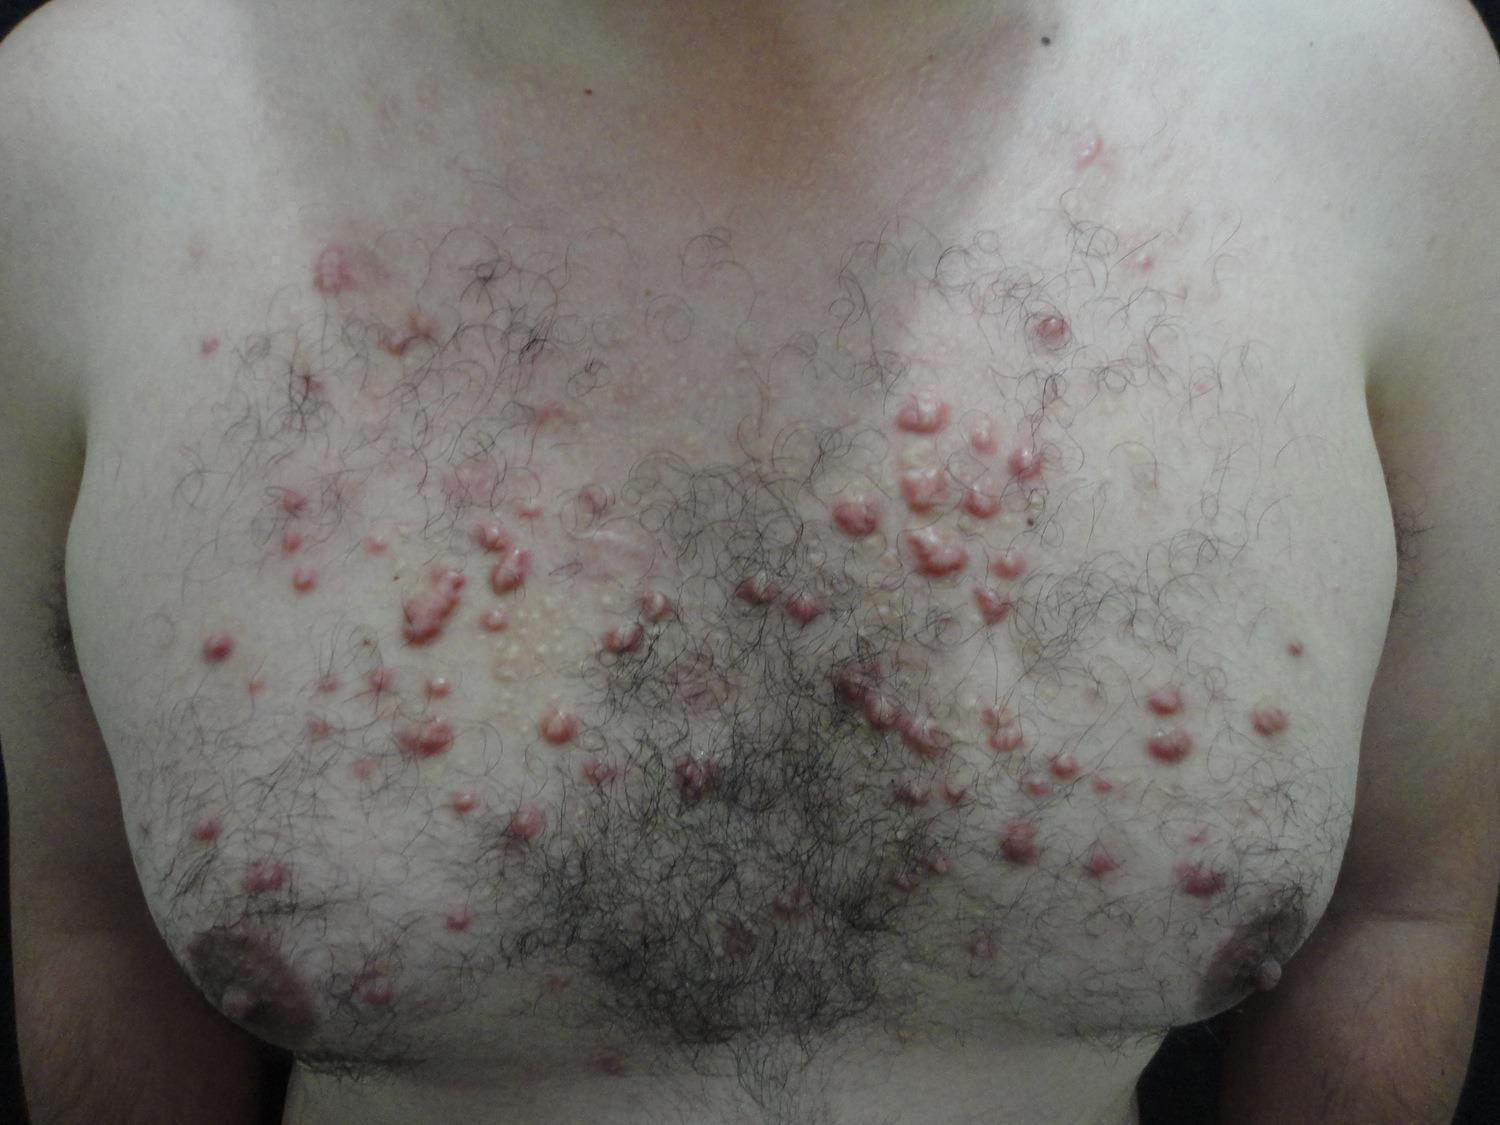keloid: (820, 645, 956, 766), (958, 404, 1054, 527), (589, 571, 696, 666), (393, 558, 477, 661), (435, 782, 557, 850), (461, 498, 539, 601), (270, 485, 327, 600), (1139, 672, 1196, 778), (733, 566, 831, 627), (970, 545, 1037, 632), (898, 518, 976, 587), (1013, 743, 1090, 809), (390, 713, 471, 765), (883, 388, 960, 440), (190, 618, 253, 679), (828, 486, 887, 548), (894, 453, 950, 513), (234, 854, 299, 903), (976, 694, 1026, 755), (540, 704, 589, 752)
